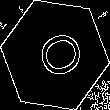O_W: (26, 25, 84, 85)
